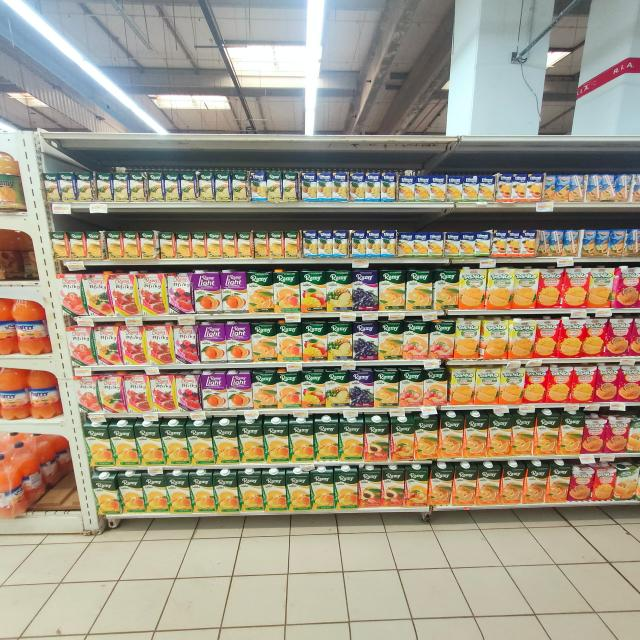ramy_carton: (80, 416, 114, 466), (96, 473, 128, 519), (65, 324, 98, 368), (106, 273, 139, 317), (132, 418, 164, 463), (157, 417, 188, 463), (137, 272, 169, 316), (364, 413, 393, 461), (190, 271, 223, 313), (451, 463, 481, 509), (147, 324, 178, 368), (108, 418, 138, 463), (183, 417, 213, 462), (338, 410, 365, 460), (509, 408, 536, 458), (559, 408, 587, 456), (121, 374, 153, 416), (290, 412, 316, 463), (115, 470, 145, 514), (141, 470, 171, 514), (165, 471, 195, 515), (118, 325, 148, 369), (390, 412, 418, 459), (148, 373, 180, 414), (186, 469, 215, 514), (237, 416, 266, 461), (96, 374, 127, 416), (94, 325, 125, 367), (535, 409, 562, 457), (308, 466, 336, 512), (236, 468, 264, 514), (210, 416, 238, 462), (261, 415, 289, 461), (260, 469, 288, 514), (224, 368, 254, 410), (85, 274, 115, 316), (405, 268, 435, 310), (465, 410, 490, 460), (284, 468, 311, 514), (73, 374, 104, 414), (212, 469, 240, 513), (522, 460, 550, 504), (220, 270, 248, 314), (378, 268, 406, 312), (198, 369, 228, 410), (246, 270, 275, 312), (198, 322, 227, 364), (251, 321, 279, 364), (166, 273, 196, 313), (56, 274, 86, 314), (422, 366, 452, 406), (332, 466, 358, 512), (428, 462, 454, 508), (547, 460, 574, 504), (499, 461, 526, 505), (276, 322, 304, 364), (378, 317, 404, 362), (225, 321, 252, 364), (174, 372, 203, 412), (611, 462, 640, 502), (316, 414, 340, 462), (479, 460, 504, 506), (300, 269, 328, 310), (324, 270, 352, 311), (405, 464, 431, 508), (352, 320, 379, 361), (359, 465, 384, 509), (327, 321, 353, 363), (417, 412, 440, 459), (300, 370, 327, 410), (404, 318, 429, 361), (272, 276, 300, 314), (324, 367, 349, 409), (373, 367, 399, 407), (352, 270, 378, 310), (430, 318, 456, 358), (381, 465, 404, 510), (304, 322, 329, 363), (348, 369, 374, 408), (400, 367, 426, 406), (251, 375, 279, 410), (437, 267, 459, 311), (279, 371, 303, 409), (463, 174, 493, 203), (415, 175, 443, 201), (522, 172, 546, 202), (58, 172, 80, 204), (178, 170, 199, 202), (163, 172, 185, 202), (54, 174, 74, 206), (230, 171, 250, 203), (348, 172, 368, 204), (282, 230, 302, 262), (95, 172, 115, 203), (127, 172, 147, 203), (136, 230, 158, 258), (146, 172, 166, 202), (300, 171, 319, 202), (331, 171, 350, 202), (112, 173, 131, 203), (69, 230, 88, 260), (496, 173, 516, 201), (281, 171, 299, 202), (122, 230, 141, 259), (380, 172, 398, 202), (250, 172, 268, 202), (349, 232, 368, 260), (44, 171, 60, 204), (396, 174, 414, 203), (444, 229, 461, 259), (206, 231, 224, 259), (267, 170, 282, 203), (86, 230, 103, 259), (520, 228, 537, 257), (252, 230, 269, 259), (268, 230, 285, 259), (396, 231, 414, 258), (334, 230, 350, 260), (302, 229, 318, 259), (427, 231, 444, 258), (237, 232, 254, 259), (507, 229, 522, 259), (493, 228, 508, 258), (318, 230, 333, 260), (223, 231, 238, 261), (199, 171, 213, 203), (476, 230, 492, 258), (160, 231, 176, 259), (412, 231, 429, 257), (447, 174, 462, 203), (382, 230, 397, 259), (107, 230, 121, 260), (78, 172, 92, 202), (176, 233, 192, 259), (217, 170, 229, 204), (366, 231, 381, 258), (514, 170, 526, 203), (462, 229, 475, 259), (192, 232, 206, 259), (319, 169, 330, 203), (366, 172, 378, 202)
rouiba_carton: (608, 229, 627, 258), (585, 174, 604, 202), (616, 173, 634, 202), (601, 173, 618, 202), (568, 174, 586, 201), (555, 173, 571, 203), (562, 231, 581, 256), (543, 172, 557, 202), (550, 229, 564, 258), (595, 230, 609, 258), (565, 229, 578, 258), (583, 230, 595, 258), (539, 228, 550, 258)
tassilo_carton: (456, 269, 487, 312), (585, 267, 617, 308), (481, 317, 511, 360), (532, 316, 562, 359), (572, 364, 600, 410), (510, 268, 541, 309), (590, 460, 620, 502), (562, 267, 592, 309), (546, 364, 574, 408), (484, 268, 514, 309), (558, 316, 588, 357), (509, 318, 538, 360), (447, 365, 475, 407), (473, 367, 502, 407), (567, 462, 595, 502), (522, 364, 550, 404), (499, 365, 526, 406), (603, 415, 630, 453), (454, 318, 479, 359), (584, 414, 607, 454)
